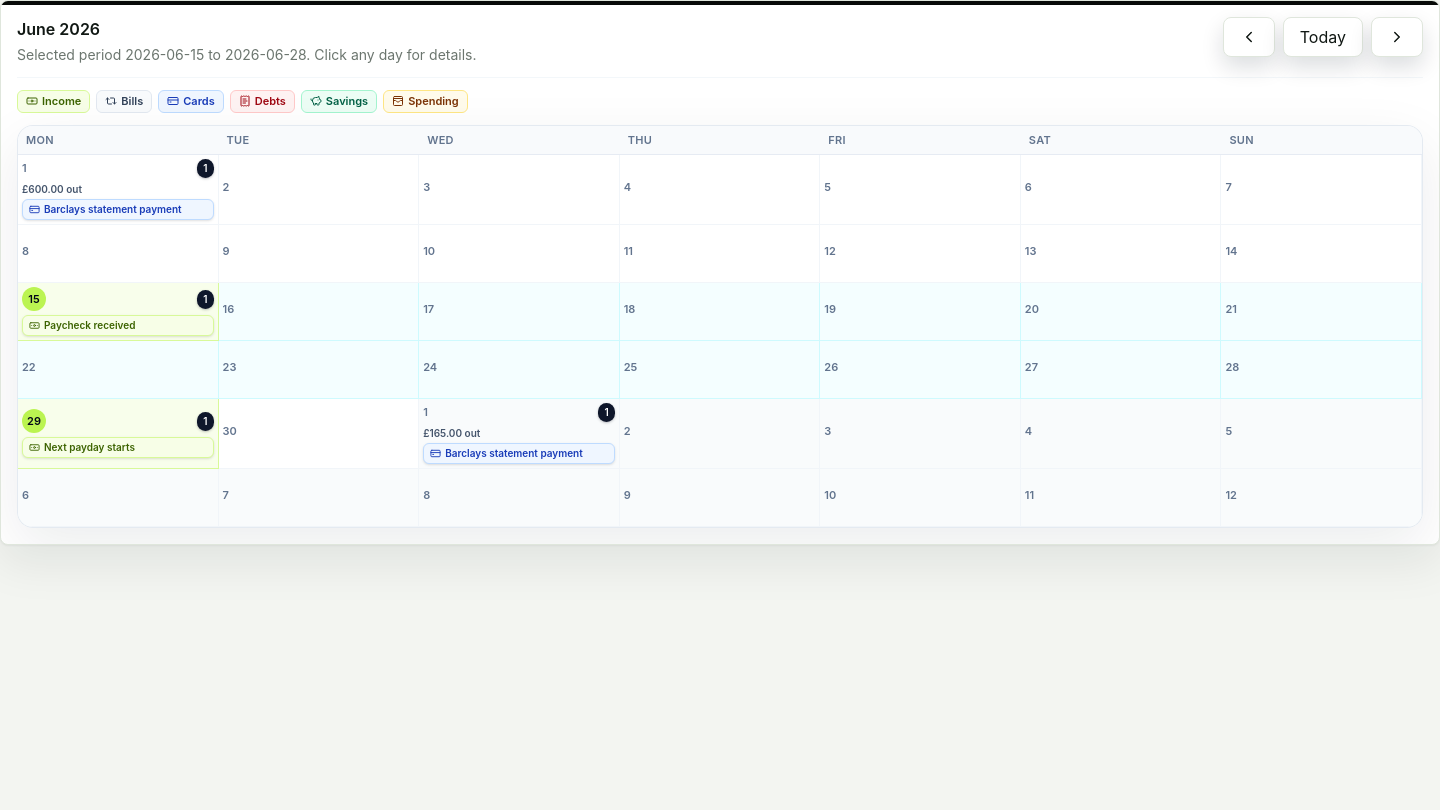
calendar page › shows statement direct debits with the payment breakdown on the calendar
Step 1. Click the button with aria-label "Open 1 June 2026" → (118, 190), box x1=18 y1=155 x2=219 y2=225
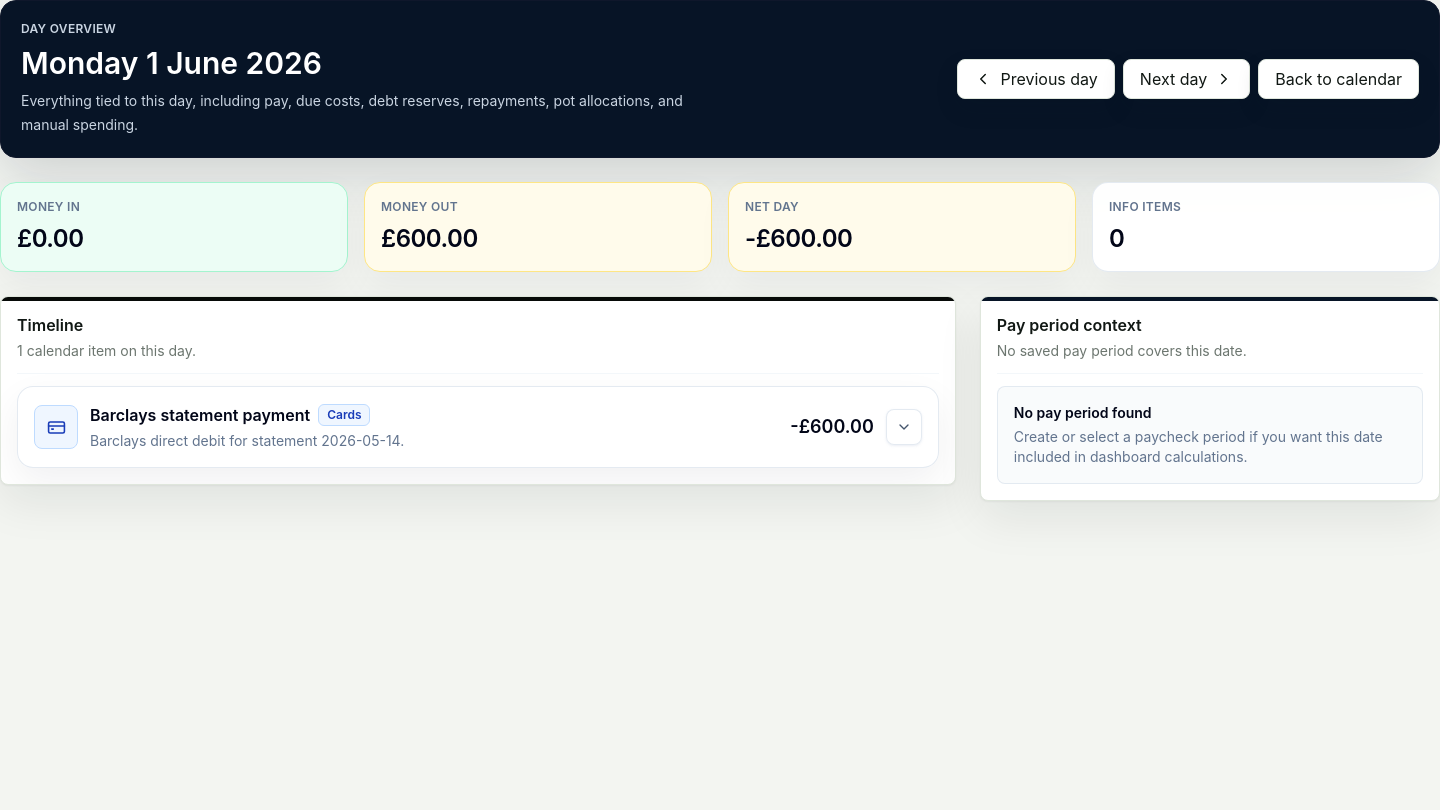
Expected: the text "Gym" is not shown
Expected: the heading "Barclays statement payment" is shown, x1=90 y1=403 x2=310 y2=427
Step 2. Click the button named "Show breakdown for Barclays statement payment -£600.00" → (904, 427), box x1=886 y1=409 x2=922 y2=445
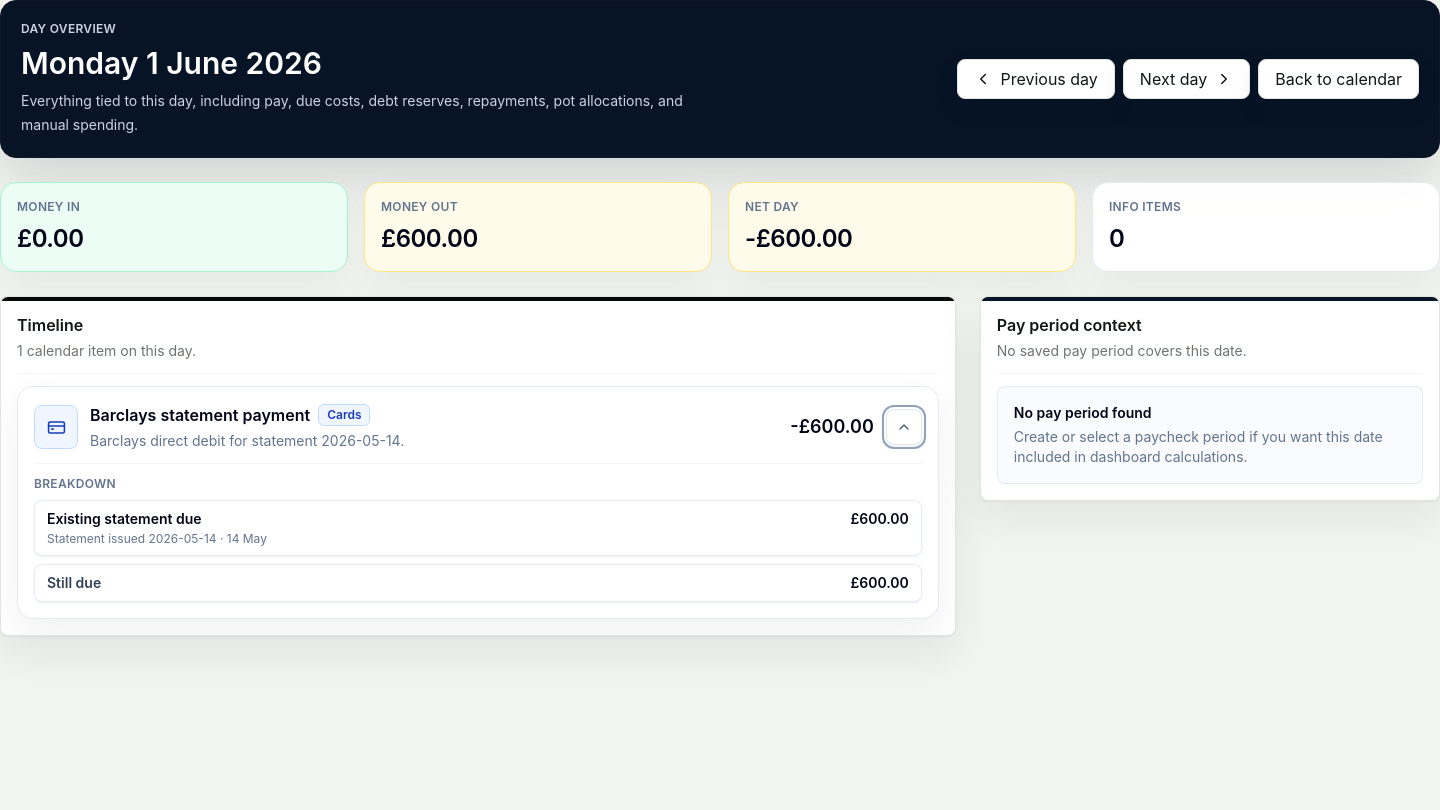
Result: the text "Existing statement due" is shown at x1=47 y1=510 x2=202 y2=527
Step 3. Click the button "Back to calendar" → (1339, 79), box x1=1258 y1=59 x2=1419 y2=99
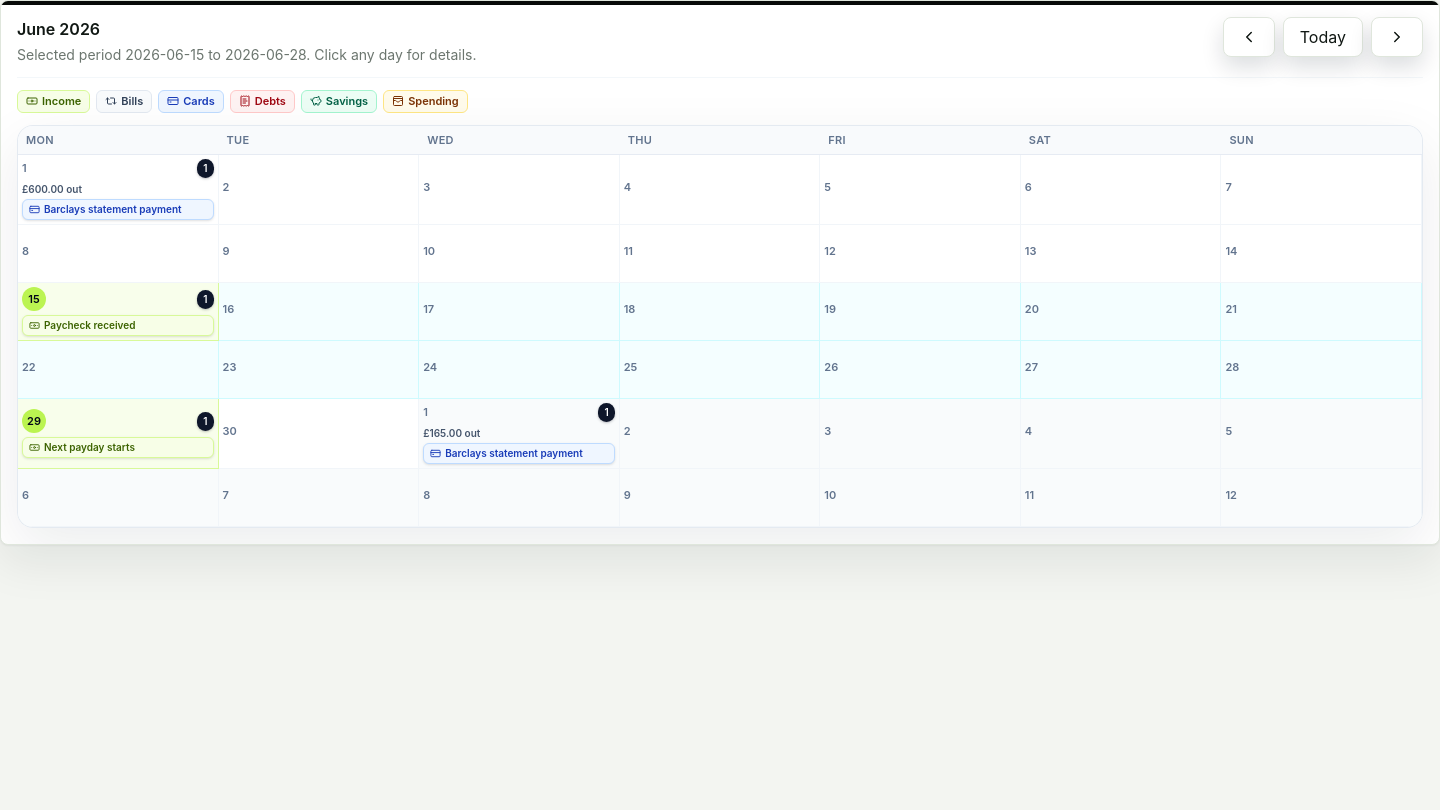
Step 4. Click the button with aria-label "Open 1 July 2026" → (519, 434), box x1=419 y1=399 x2=620 y2=469
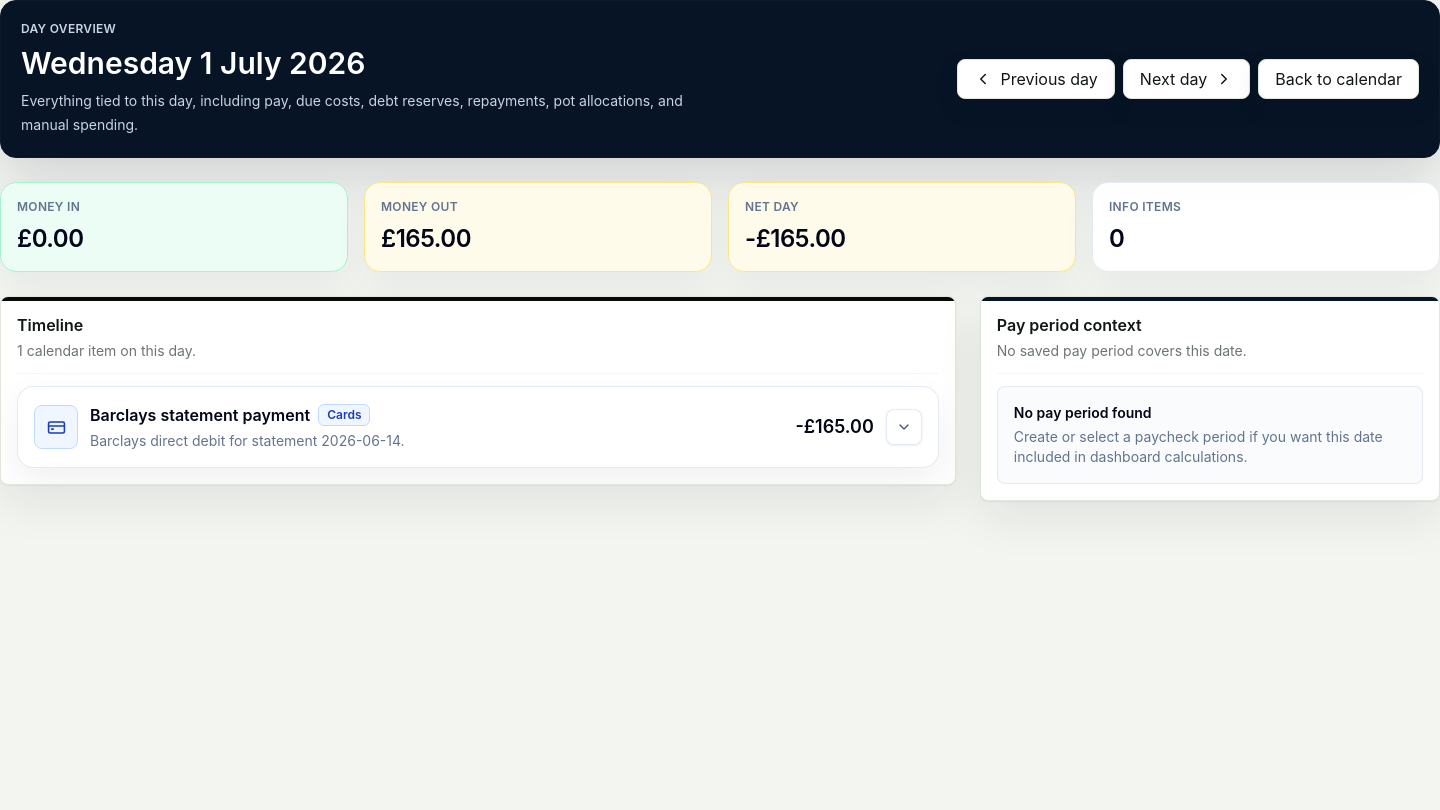
Expected: the heading "Barclays statement payment" is shown, x1=90 y1=403 x2=310 y2=427
Step 5. Click the button named "Show breakdown for Barclays statement payment -£165.00" → (904, 427), box x1=886 y1=409 x2=922 y2=445
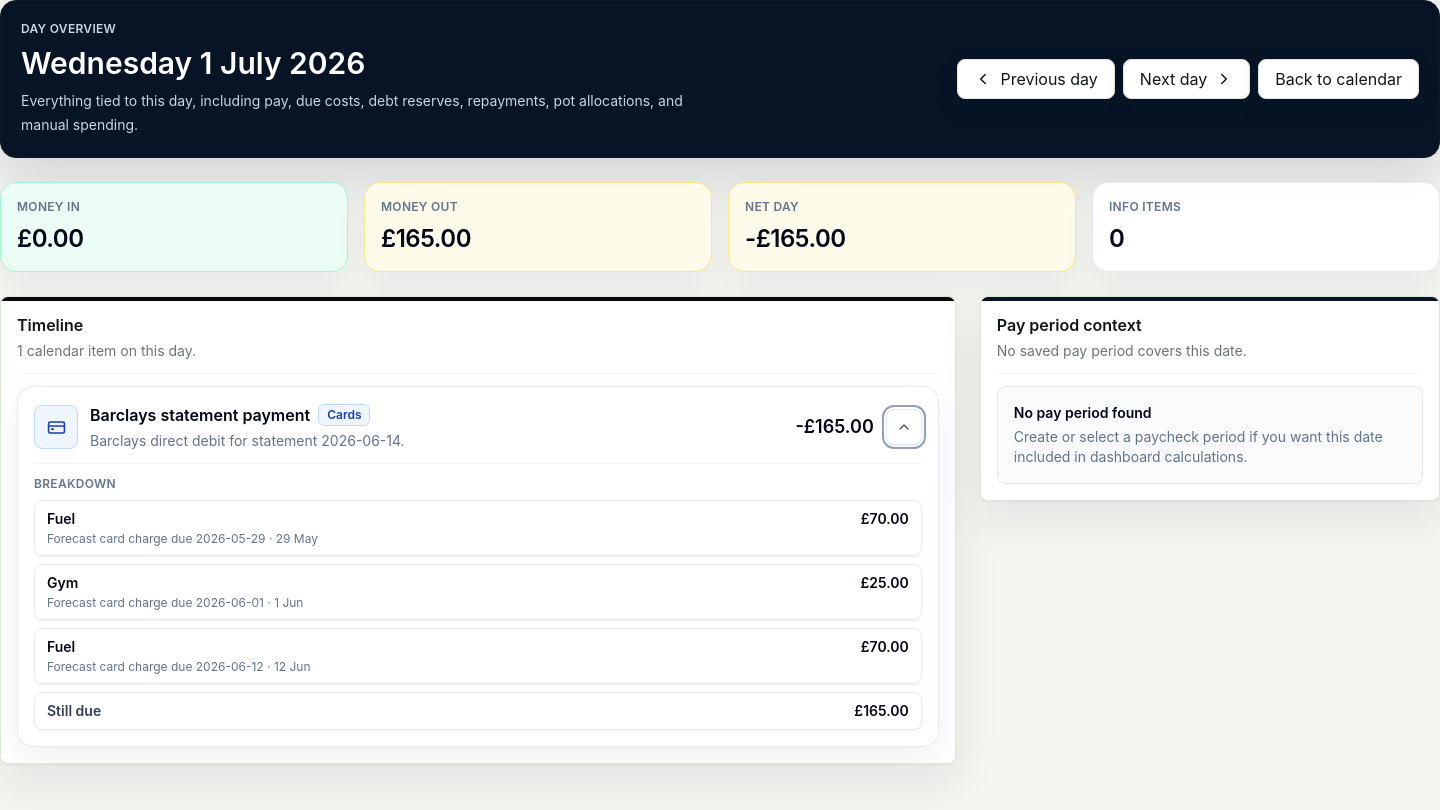
Result: the text "Fuel" is shown 2 times at x1=47 y1=510 x2=75 y2=527; x1=47 y1=638 x2=75 y2=655
Result: the text "Gym" is shown at x1=47 y1=574 x2=78 y2=591
Result: the text "£165.00" in the row of "Still due" is shown at x1=854 y1=702 x2=909 y2=719
